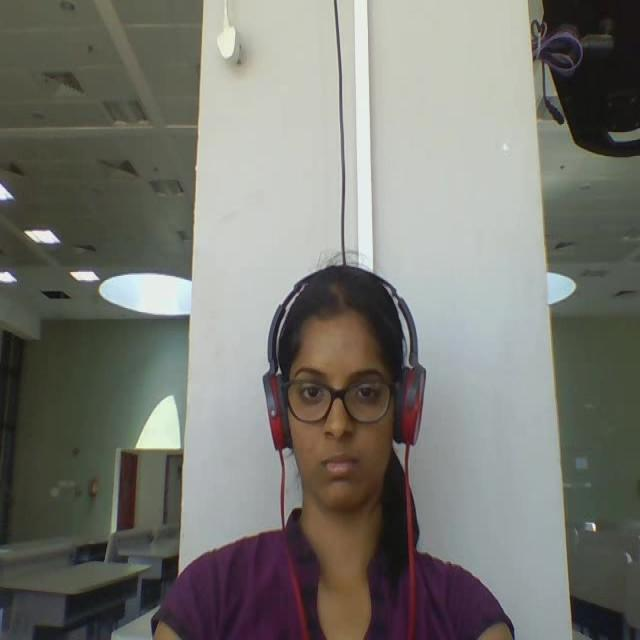Engaged: (243, 259, 442, 520)
